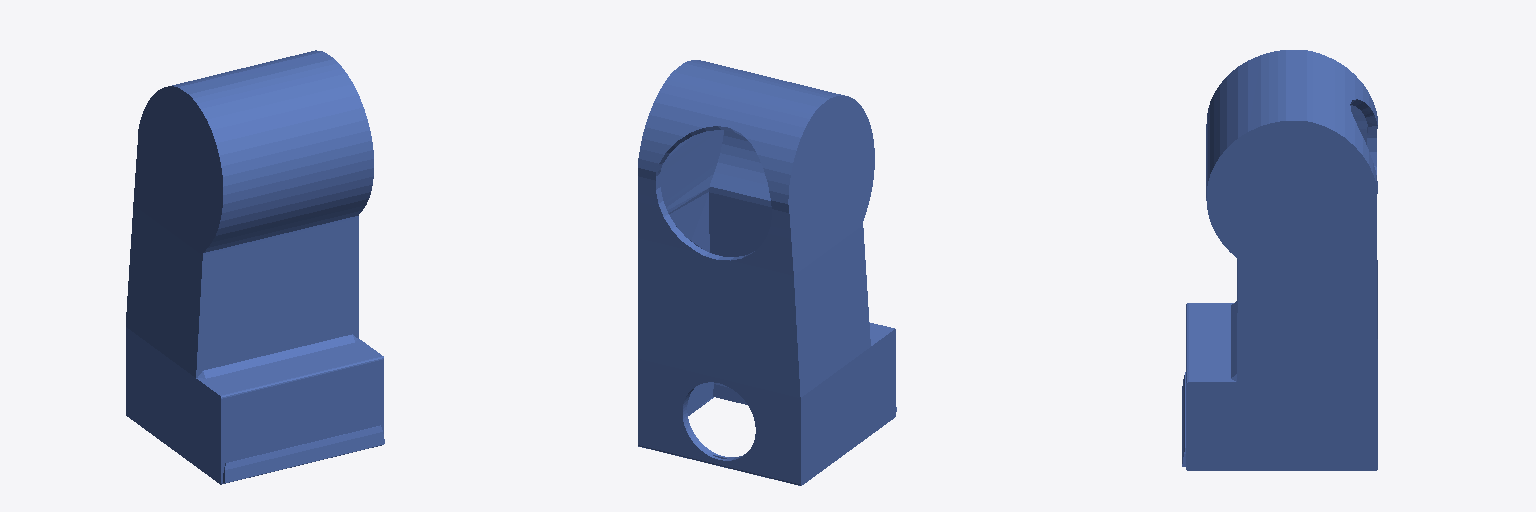
3 views of the same model, side by side, from view 1: azimuth 30°, elevation 25°; view 2: azimuth 150°, elevation 25°; view 3: azimuth 270°, elevation 25° (orthographic).
Parts seen in each view (by area): view 1: Plane003; view 2: Plane003; view 3: Plane003.
Part boxes in pixels (x1,y1,x2,y2): Plane003: (126,50,384,484); Plane003: (638,60,896,485); Plane003: (1182,50,1377,470).
Bounding box in the file's own units: 2.39 × 4.91 × 2.48.
Materials: 1 (1 with a texture image).